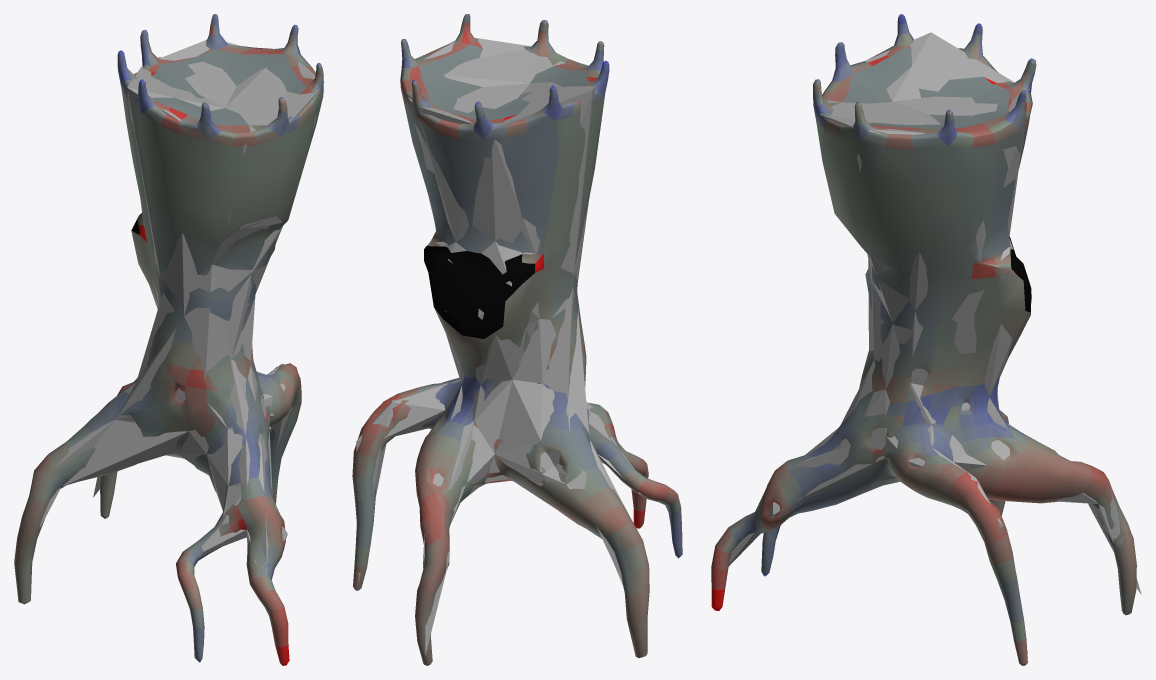
File: FungusMed02Sahrim.fbx
The picture shows the model from 3 angles, left to right: view 1: azimuth 30°, elevation 25°; view 2: azimuth 150°, elevation 25°; view 3: azimuth 270°, elevation 25°; orthographic projection. The views are drawn at different scales.
Visible parts, largest first — view 1: fungusMed02Sahrim_LOD0, fungusMed02Sahrim_COL; view 2: fungusMed02Sahrim_LOD0, fungusMed02Sahrim_COL; view 3: fungusMed02Sahrim_LOD0, fungusMed02Sahrim_COL.
Boxes of the visible parts, left/top/right/bottom form: fungusMed02Sahrim_LOD0: left=14, top=14, right=323, bottom=665; fungusMed02Sahrim_COL: left=36, top=39, right=319, bottom=615; fungusMed02Sahrim_LOD0: left=352, top=14, right=682, bottom=665; fungusMed02Sahrim_COL: left=356, top=37, right=640, bottom=655; fungusMed02Sahrim_LOD0: left=711, top=14, right=1136, bottom=665; fungusMed02Sahrim_COL: left=728, top=32, right=1141, bottom=653.
Size of what is drawn, in the model's own units: 5.79 by 10.42 by 7.15.
